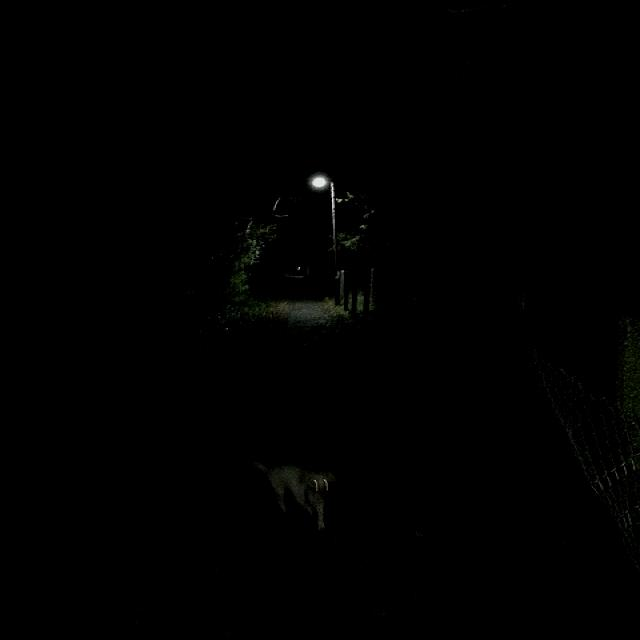Dog: (194, 353, 427, 559)
